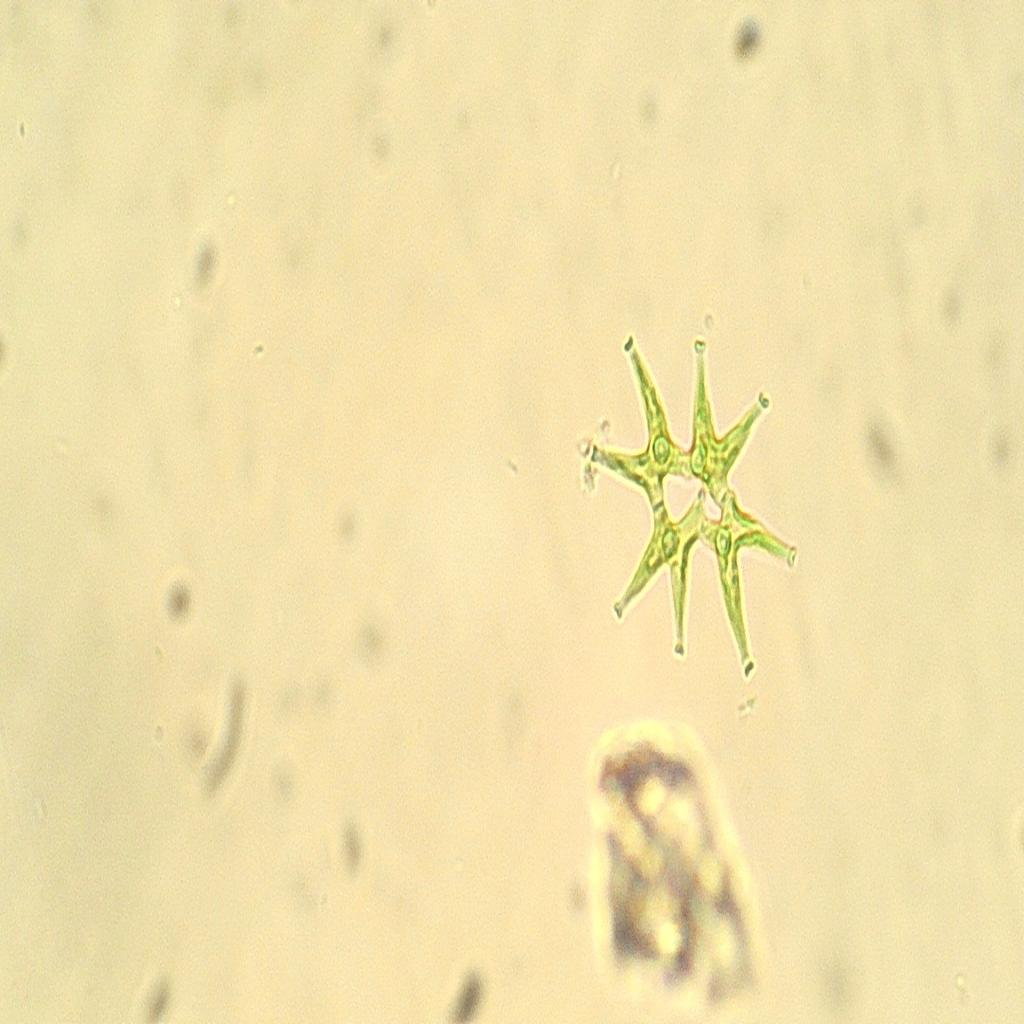Pediastrum_75FO: (575, 292, 819, 699)
